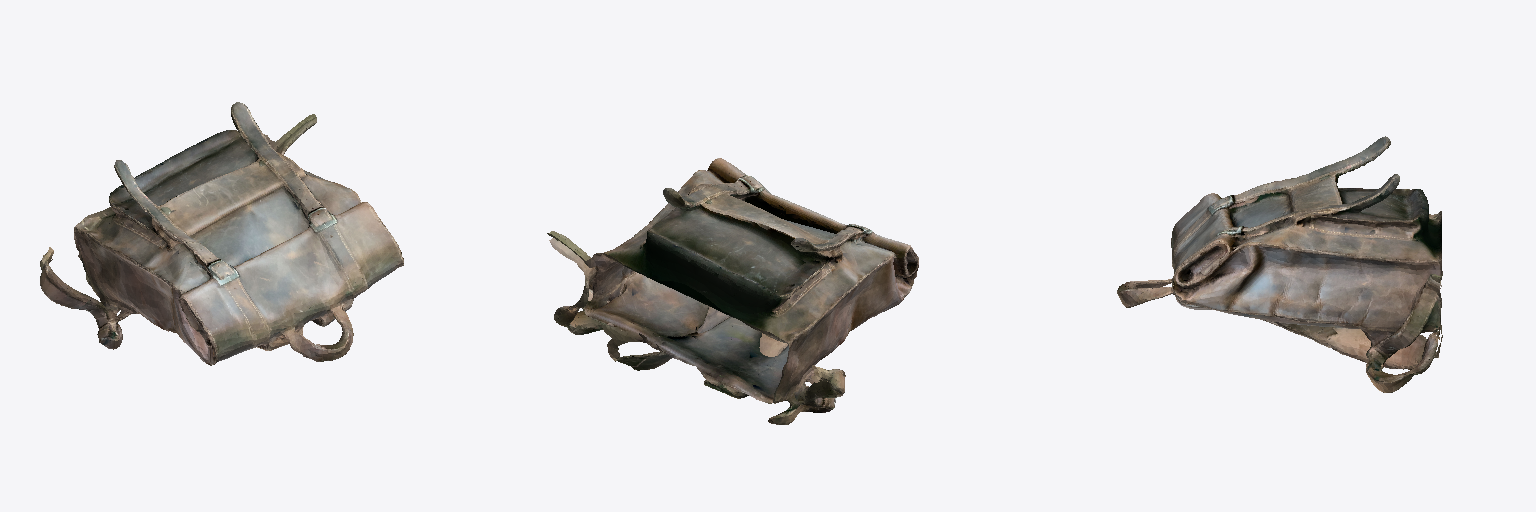
3 views of the same model, side by side, from view 1: azimuth 30°, elevation 25°; view 2: azimuth 150°, elevation 25°; view 3: azimuth 270°, elevation 25° (orthographic).
Size of the model in its own units: 0.9307 by 0.6198 by 0.9076.
1 materials, 1 textured.